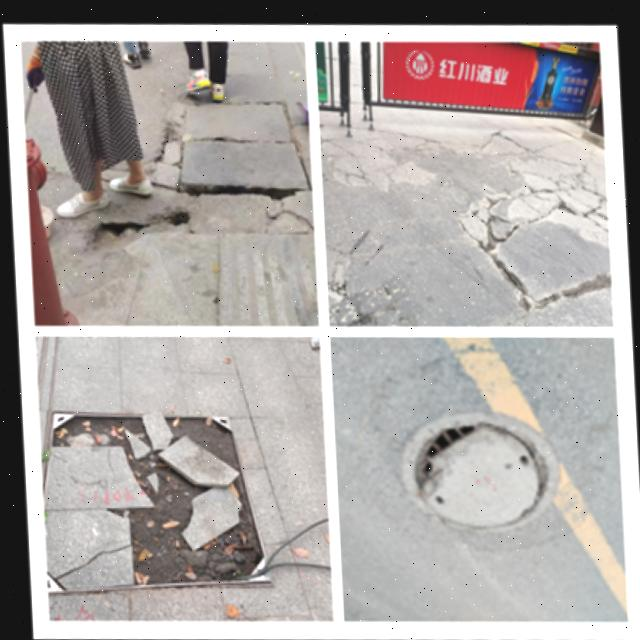manhole: (37, 395, 272, 599), (384, 394, 560, 538), (157, 88, 311, 238)
